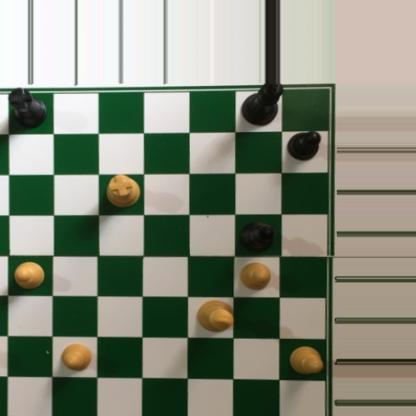black-bishop: (239, 221, 275, 253)
black-king: (240, 84, 285, 127)
black-pawn: (287, 129, 322, 161)
black-rook: (7, 85, 47, 128)
white-king: (196, 298, 235, 333)
white-pawn: (288, 346, 324, 378), (12, 260, 48, 291), (59, 341, 94, 371), (239, 261, 273, 291)
white-rook: (104, 174, 140, 209)
